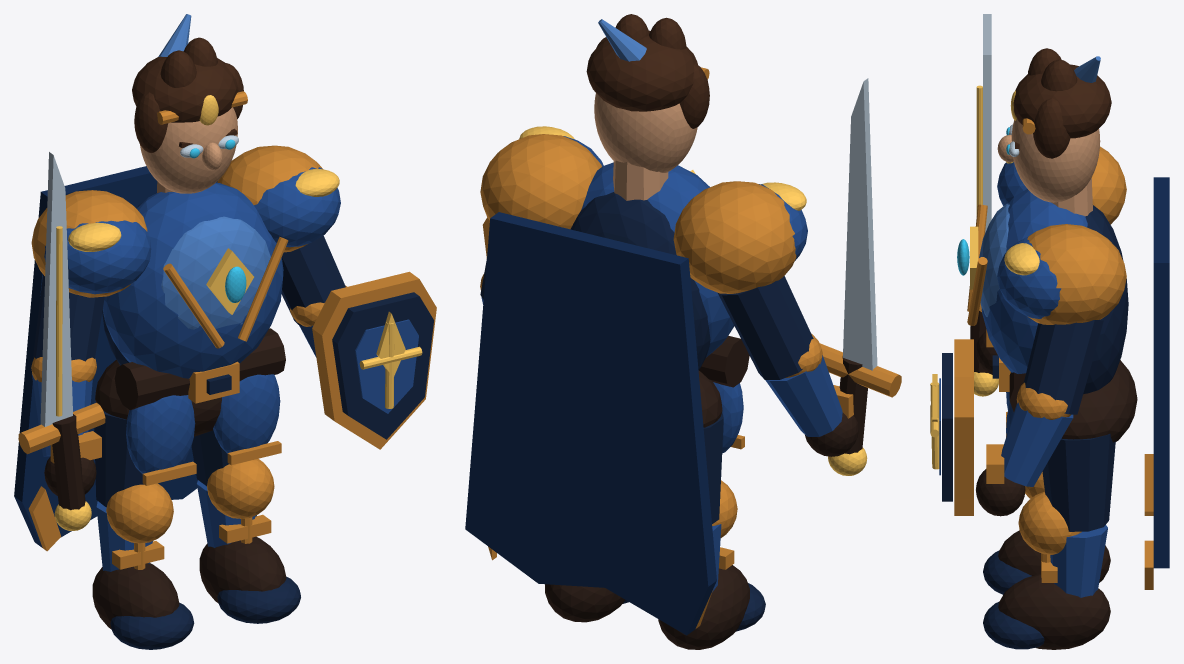
The model's file is Guerrier_Azur_Prototype.obj.
3 views of the same model, side by side, from view 1: azimuth 30°, elevation 25°; view 2: azimuth 150°, elevation 25°; view 3: azimuth 270°, elevation 25° (orthographic). The views are drawn at different scales.
Visible parts, largest first — view 1: Plastron, Cape_arriere, Plastron_reflet, Bouclier_bleu, Bouclier_bordure, Lame_epee, Tete, Pan_tunique_Gauche, Epauliere_azur_Gauche, Botte_Gauche, Botte_Droit, Epauliere_azur_Droit (+41 smaller); view 2: Cape_arriere, Epauliere_ext_Gauche, Epauliere_ext_Droit, Lame_epee, Cheveux_couronne, Bras_Gauche, Tete, Torse_interieur, Plastron, AvantBras_Gauche, Botte_Gauche, Mèche (+15 smaller); view 3: Epauliere_ext_Droit, Cape_arriere, Cuissarde_Droit, Botte_Droit, Plastron, Bras_Droit, Tete, Cheveux_couronne, Bouclier_bordure, AvantBras_Droit, Bassin, Mèche (+30 smaller).
Part boxes in pixels (x1,y1,x2,y2): Plastron: [103, 182, 283, 378]; Cape_arriere: [14, 166, 217, 547]; Plastron_reflet: [161, 216, 271, 329]; Bouclier_bleu: [332, 292, 433, 439]; Bouclier_bordure: [312, 271, 436, 449]; Lame_epee: [40, 152, 72, 426]; Tete: [140, 107, 237, 193]; Pan_tunique_Gauche: [126, 395, 195, 474]; Epauliere_azur_Gauche: [44, 220, 151, 294]; Botte_Gauche: [92, 563, 179, 629]; Botte_Droit: [199, 536, 286, 603]; Epauliere_azur_Droit: [254, 167, 340, 247]; Cape_arriere: [465, 212, 716, 635]; Epauliere_ext_Gauche: [673, 181, 796, 293]; Epauliere_ext_Droit: [480, 134, 601, 229]; Lame_epee: [843, 78, 877, 370]; Cheveux_couronne: [586, 30, 697, 111]; Bras_Gauche: [718, 276, 813, 379]; Tete: [594, 93, 697, 172]; Torse_interieur: [570, 192, 710, 370]; Plastron: [581, 162, 734, 357]; AvantBras_Gauche: [765, 355, 842, 436]; Botte_Gauche: [658, 565, 749, 649]; Mèche: [596, 14, 709, 128]; Epauliere_ext_Droit: [1027, 224, 1126, 324]; Cape_arriere: [1153, 177, 1169, 568]; Cuissarde_Droit: [1042, 434, 1115, 531]; Botte_Droit: [998, 574, 1110, 649]; Plastron: [981, 189, 1087, 373]; Bras_Droit: [1024, 318, 1103, 414]; Tete: [1011, 119, 1100, 202]; Cheveux_couronne: [1013, 64, 1111, 138]; Bouclier_bordure: [954, 339, 973, 515]; AvantBras_Droit: [1001, 402, 1073, 486]; Bassin: [1061, 360, 1137, 442]; Mèche: [1027, 48, 1077, 158].
Bounding box in the file's own units: 2.53 × 3.57 × 1.34.
